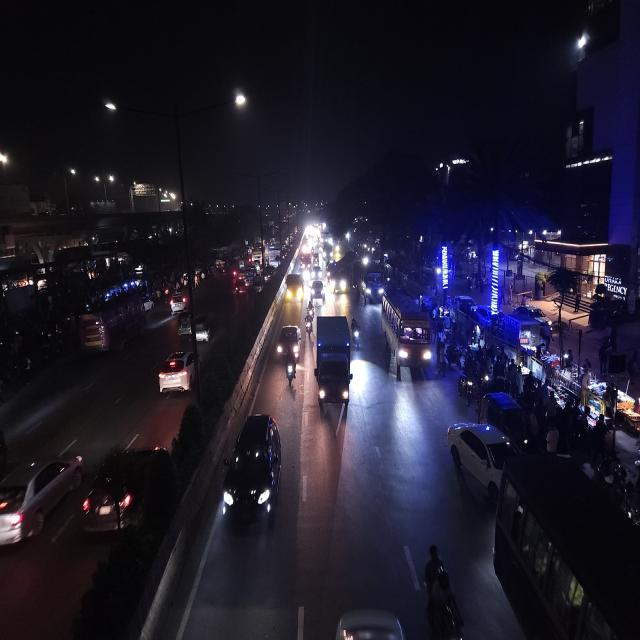bus: (492, 454, 639, 640), (380, 287, 434, 379), (78, 290, 146, 360), (327, 251, 357, 298), (360, 260, 385, 305)
car: (0, 437, 85, 553), (219, 409, 285, 536), (445, 421, 520, 504), (156, 344, 202, 398), (276, 322, 302, 360), (309, 278, 325, 305), (168, 292, 188, 313), (234, 277, 248, 298), (252, 276, 264, 296)
cng: (193, 312, 215, 346), (177, 310, 192, 338)
motorcycle: (416, 539, 467, 640), (456, 354, 482, 406), (279, 352, 301, 389), (350, 314, 362, 350), (304, 311, 314, 338), (304, 302, 314, 329), (306, 298, 314, 314)
pickup_van: (286, 273, 304, 303)
truck: (312, 311, 356, 418)
